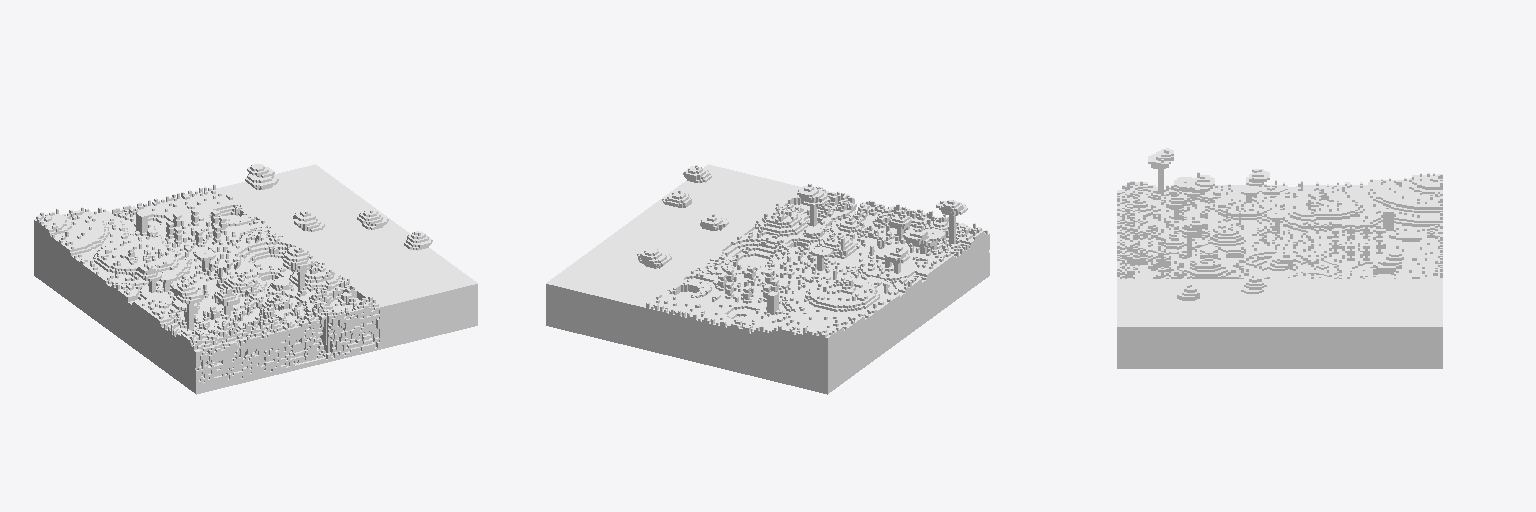
The model's file is orange-plains-north.obj.
3 renders of one model, left to right at view 1: azimuth 30°, elevation 25°; view 2: azimuth 150°, elevation 25°; view 3: azimuth 270°, elevation 25°, orthographic.
Parts seen in each view (by area): view 1: orange-plains-north; view 2: orange-plains-north; view 3: orange-plains-north.
Boxes of the visible parts, x1,y1,x2,y2 form: orange-plains-north: [34, 164, 477, 394]; orange-plains-north: [546, 164, 989, 394]; orange-plains-north: [1117, 148, 1442, 368].
Bounding box in the file's own units: 126 × 38 × 126.